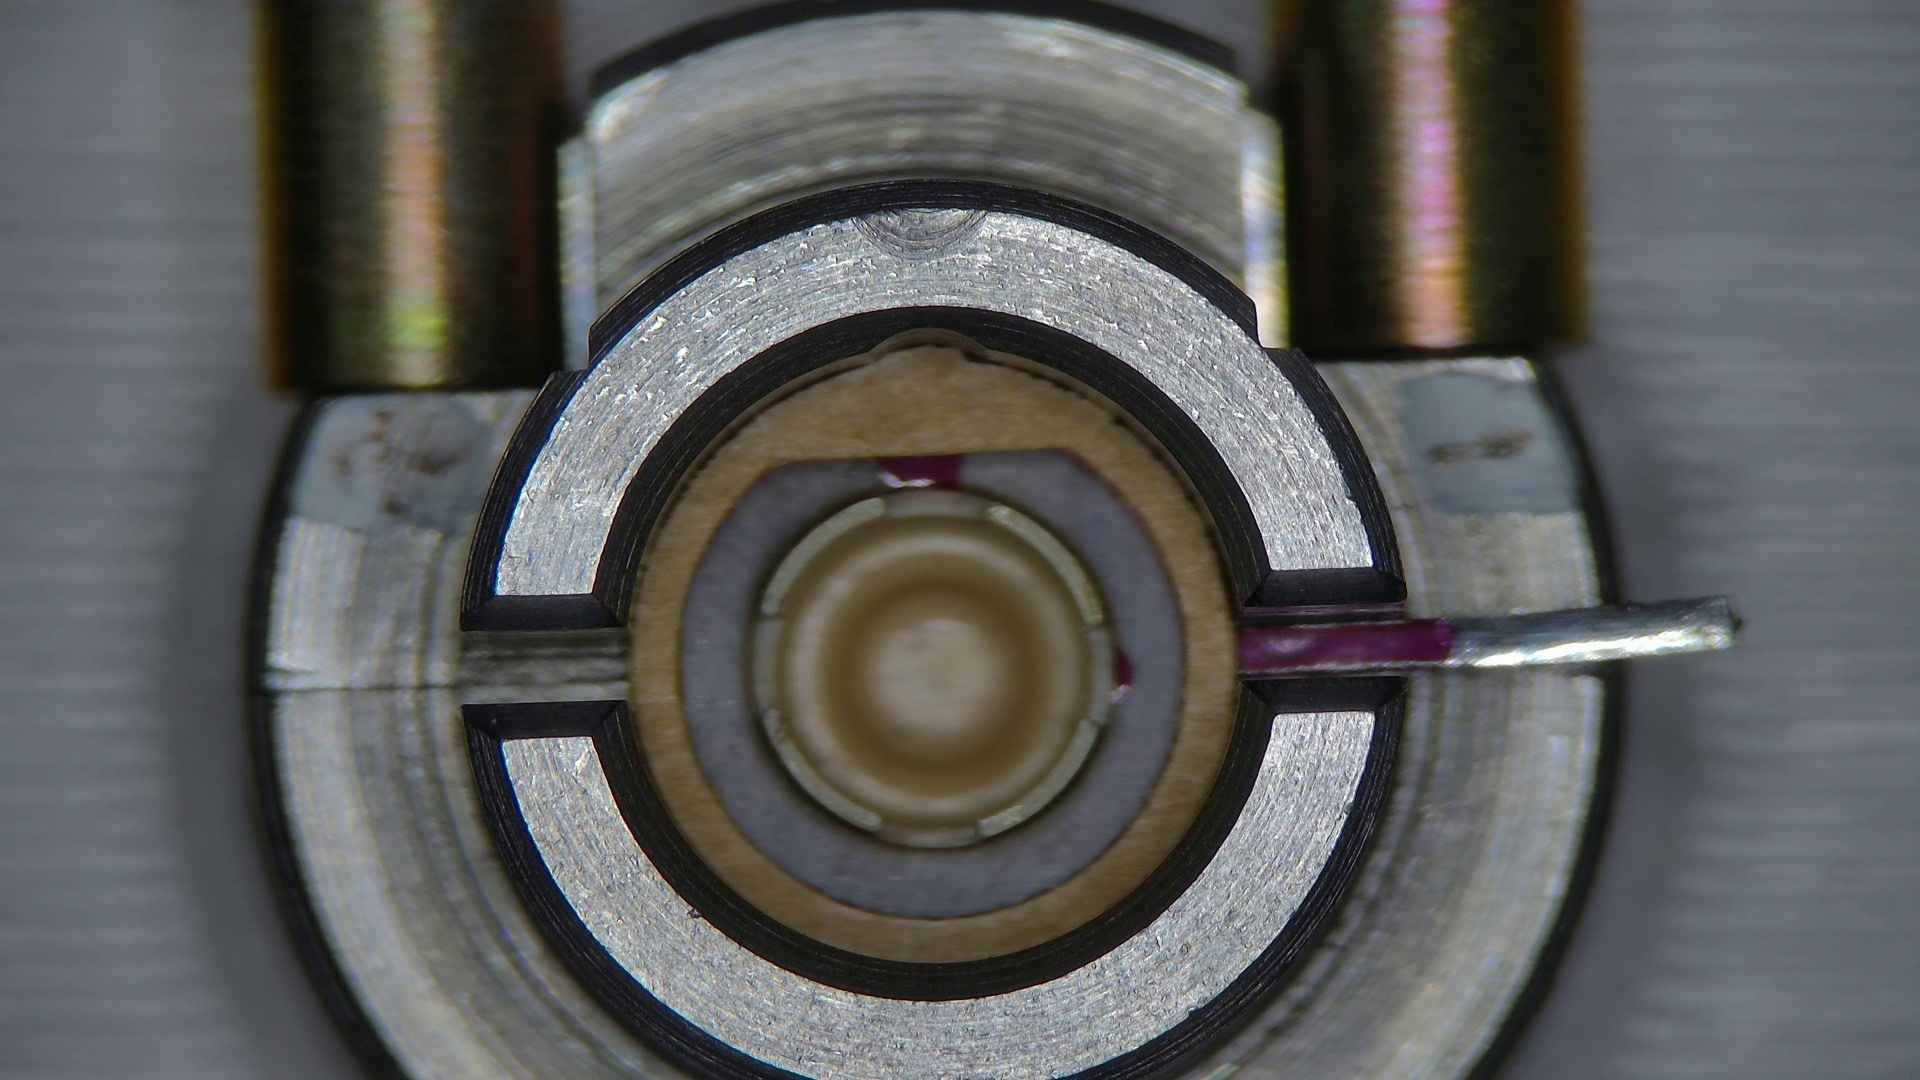YellowOring: (679, 454, 1182, 918)
redOring: (630, 344, 1236, 963)
